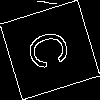C: (25, 24, 80, 73)
